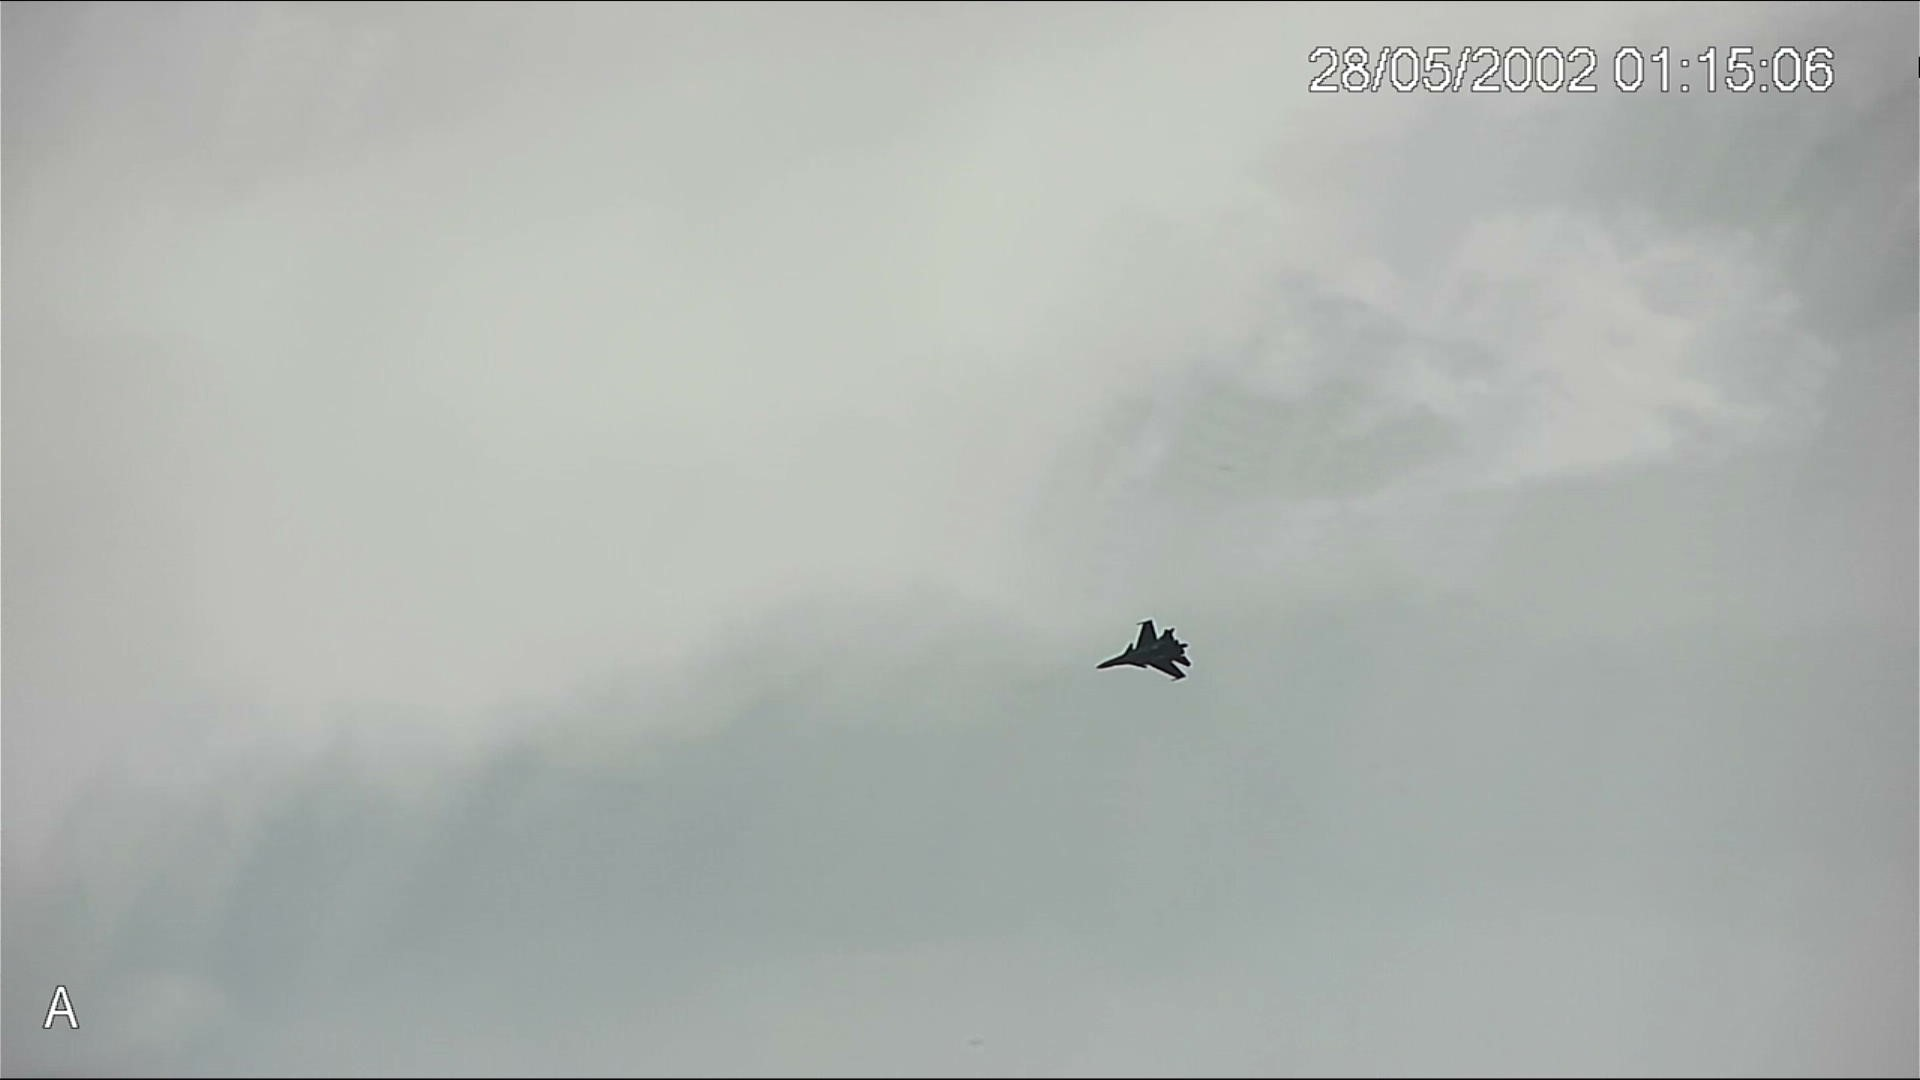SU_30: (1091, 616, 1193, 692)
